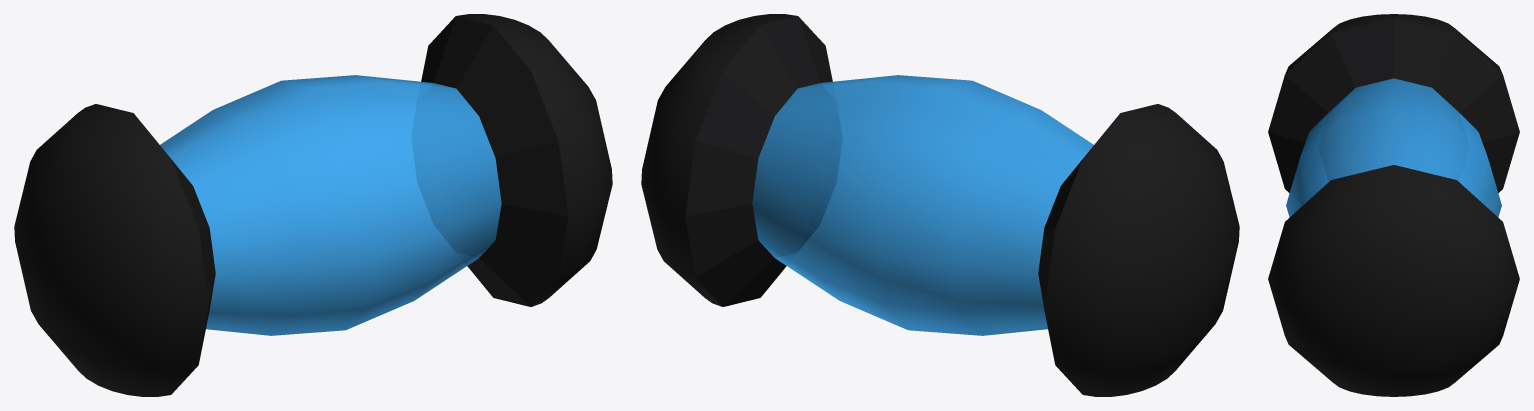
The model's file is Ammunition.fbx.
3 views of the same model, side by side, from view 1: azimuth 30°, elevation 25°; view 2: azimuth 150°, elevation 25°; view 3: azimuth 270°, elevation 25° (orthographic). The views are drawn at different scales.
Visible parts, largest first — view 1: Sphere002; view 2: Sphere002; view 3: Sphere002.
Boxes of the visible parts, x1=… form: Sphere002: x1=14, y1=14, x2=612, y2=396; Sphere002: x1=641, y1=14, x2=1239, y2=396; Sphere002: x1=1268, y1=14, x2=1519, y2=396.
Bounding box in the file's own units: 198 × 94.16 × 94.16.
